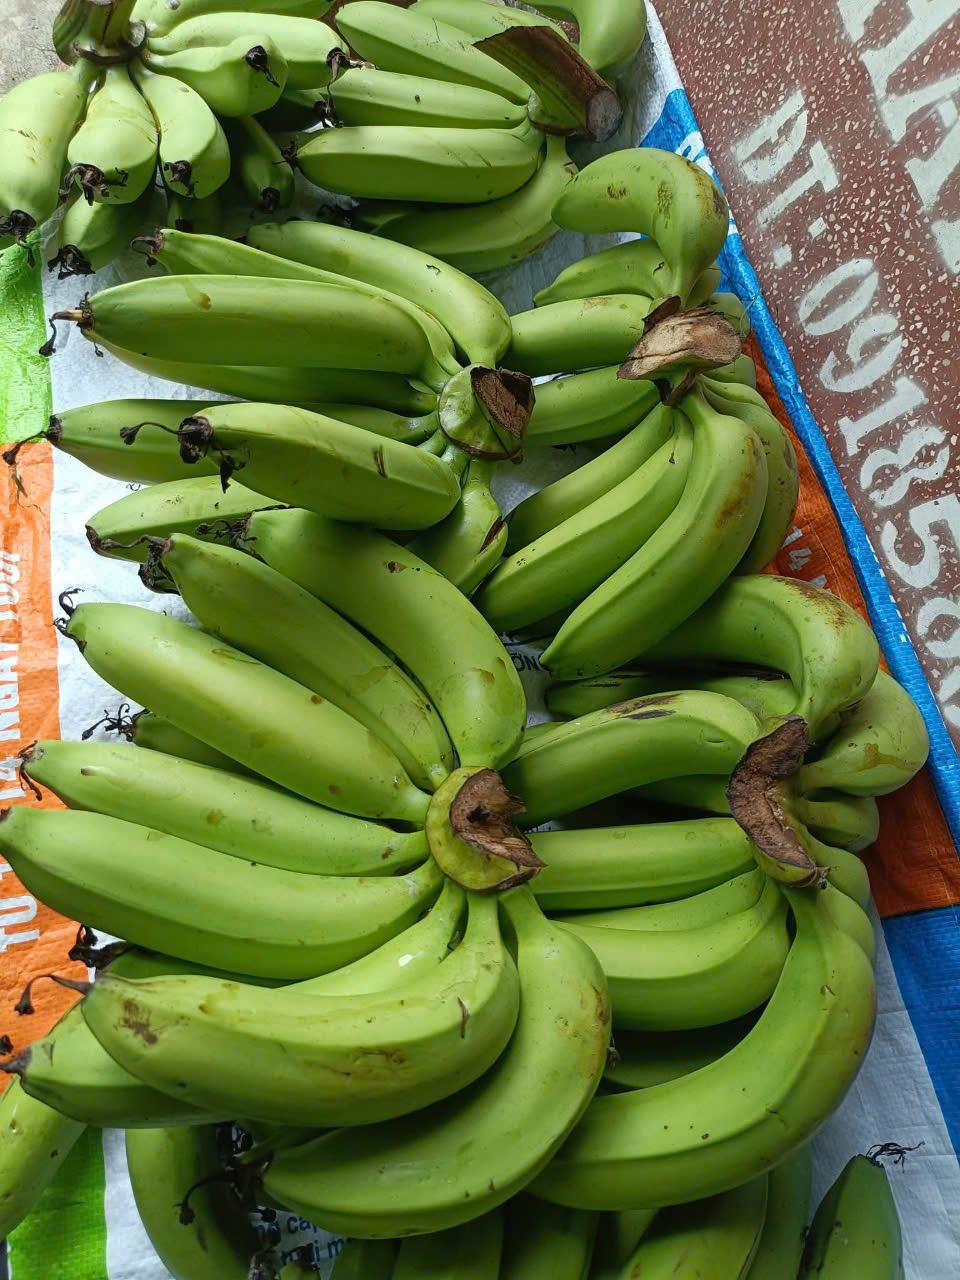banana: (36, 880, 640, 1257), (23, 533, 528, 887), (26, 210, 518, 536), (560, 837, 888, 1229), (530, 363, 785, 688), (23, 3, 380, 220), (523, 140, 756, 291)
